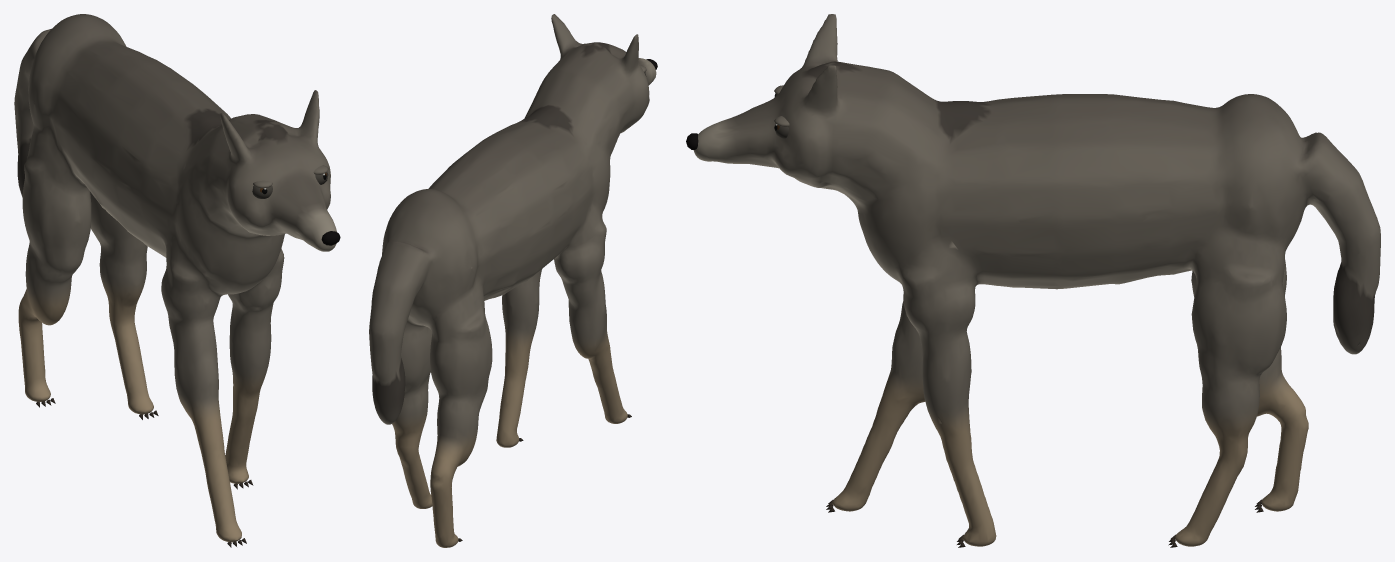
The model's file is CanisLupus.fbx.
3 renders of one model, left to right at view 1: azimuth 30°, elevation 25°; view 2: azimuth 150°, elevation 25°; view 3: azimuth 270°, elevation 25°, orthographic. The views are drawn at different scales.
Parts seen in each view (by area): view 1: CanisLupus; view 2: CanisLupus; view 3: CanisLupus.
Boxes of the visible parts, box(x1,y1,x2,y2) form: CanisLupus: box(14, 14, 340, 547); CanisLupus: box(369, 14, 657, 547); CanisLupus: box(686, 14, 1380, 547).
Size of the model in its own units: 0.2892 by 1.04 by 1.34.
